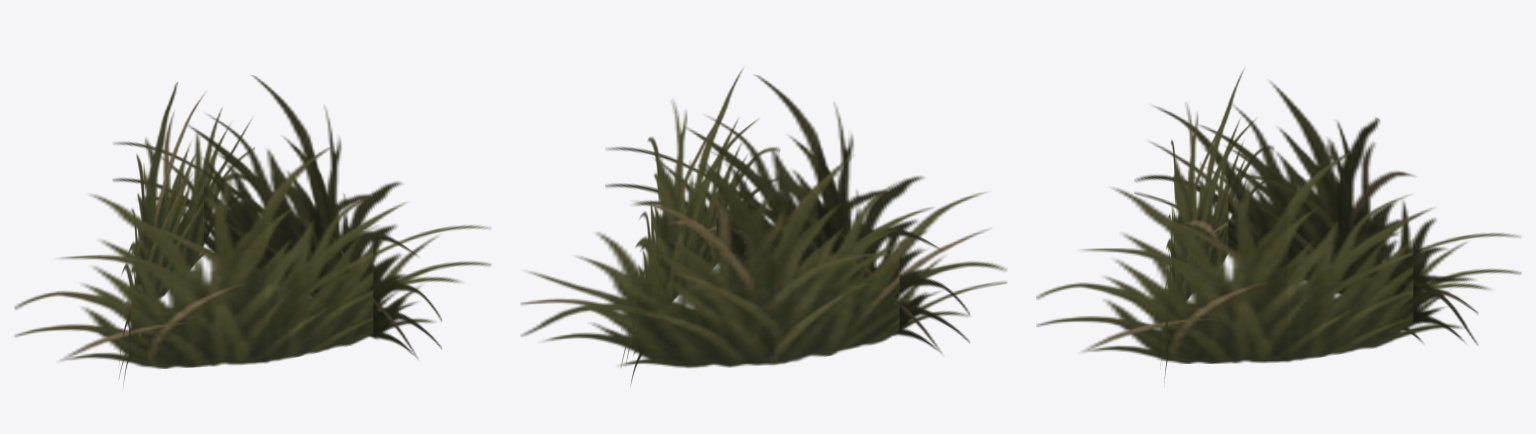
The model's file is source_5.glb.
3 renders of one model, left to right at view 1: azimuth 30°, elevation 25°; view 2: azimuth 150°, elevation 25°; view 3: azimuth 270°, elevation 25°, orthographic.
Visible parts, largest first — view 1: woodland-grass-low · evaluated preview mesh; view 2: woodland-grass-low · evaluated preview mesh; view 3: woodland-grass-low · evaluated preview mesh.
Part boxes in pixels (<box>): woodland-grass-low · evaluated preview mesh: <box>14,75,491,384</box>; woodland-grass-low · evaluated preview mesh: <box>521,69,1007,383</box>; woodland-grass-low · evaluated preview mesh: <box>1036,70,1521,382</box>.
Bounding box in the file's own units: 1.65 × 0.765 × 1.67.
1 material, 1 textured.
